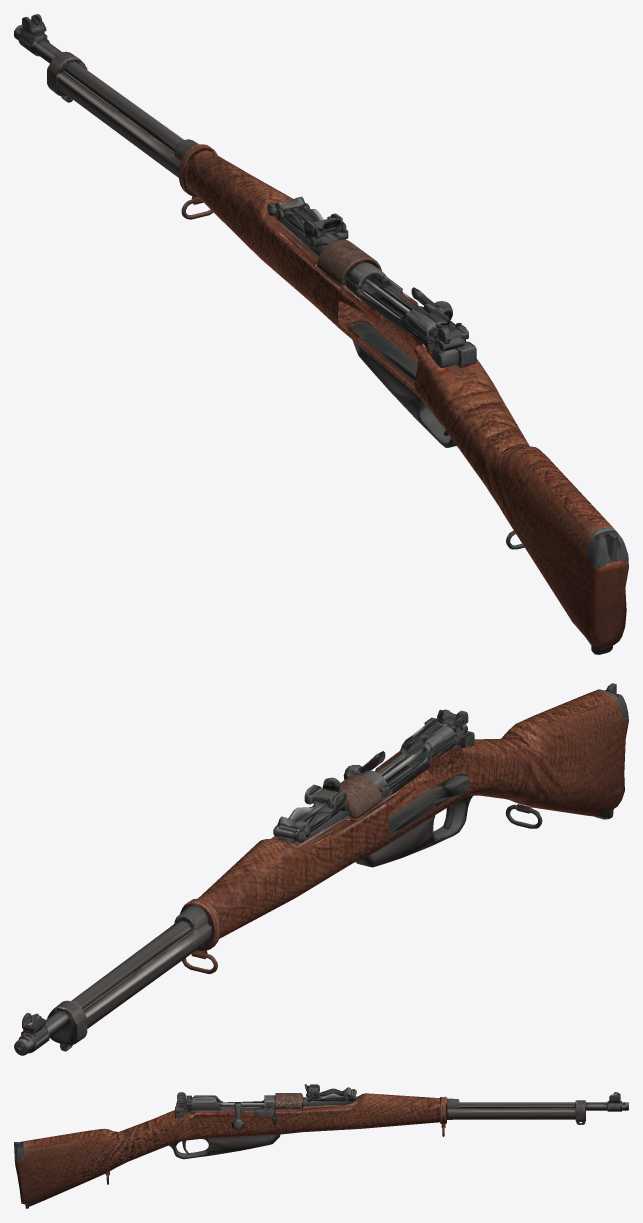
The model's file is RifleMechanism.glb.
3 renders of one model, top to bottom at view 1: azimuth 30°, elevation 25°; view 2: azimuth 150°, elevation 25°; view 3: azimuth 270°, elevation 25°, orthographic. The views are drawn at different scales.
Visible parts, largest first — view 1: Static, Bolt; view 2: Static, Bolt; view 3: Static, Bolt.
Part boxes in pixels (left/top/right/bottom): Static: left=14, top=14, right=628, bottom=654; Bolt: left=349, top=262, right=466, bottom=346; Static: left=14, top=683, right=628, bottom=1055; Bolt: left=343, top=709, right=462, bottom=792; Static: left=14, top=1084, right=628, bottom=1208; Bolt: left=183, top=1095, right=275, bottom=1132.
Bounding box in the file's own units: 0.0776 × 0.2202 × 0.9995.
1 material, 1 textured.
